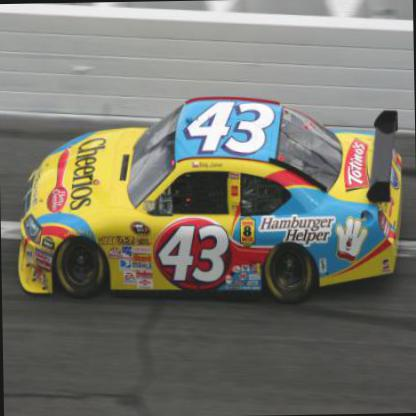car: (11, 90, 406, 304)
